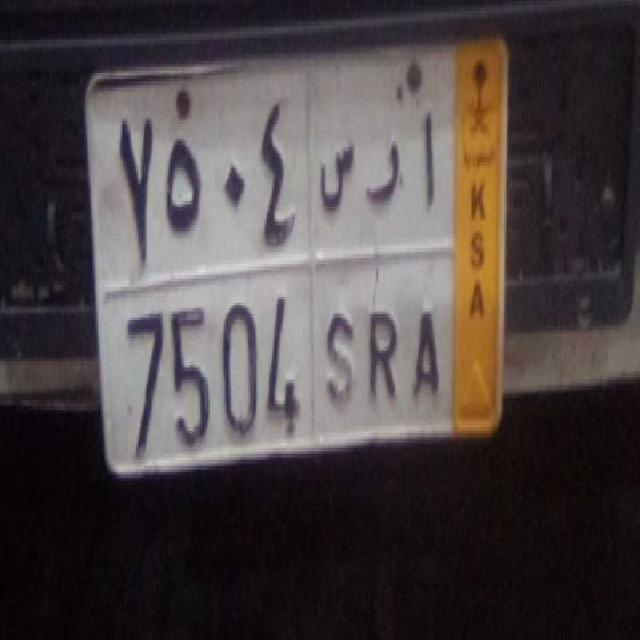license_plate: (105, 272, 453, 466)
